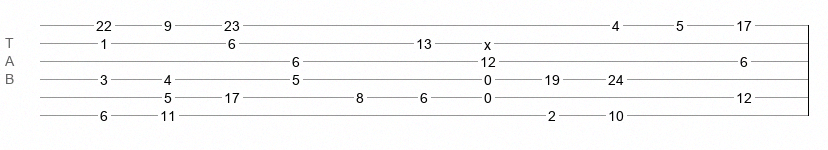0: (484, 72, 492, 82), (484, 90, 492, 100)
1: (100, 36, 108, 46)
10: (608, 108, 624, 118)
11: (160, 108, 176, 118)
12: (480, 54, 496, 64), (736, 90, 752, 100)
13: (416, 36, 432, 46)
17: (224, 90, 240, 100), (736, 18, 752, 28)
19: (544, 72, 560, 82)
2: (548, 108, 556, 118)
22: (96, 18, 112, 28)
23: (224, 18, 240, 28)
24: (608, 72, 624, 82)
3: (100, 72, 108, 82)
4: (164, 72, 172, 82), (612, 18, 620, 28)
5: (164, 90, 172, 100), (292, 72, 300, 82), (676, 18, 684, 28)
6: (100, 108, 108, 118), (228, 36, 236, 46), (292, 54, 300, 64), (420, 90, 428, 100), (740, 54, 748, 64)
8: (356, 90, 364, 100)
9: (164, 18, 172, 28)
x: (484, 37, 491, 45)
